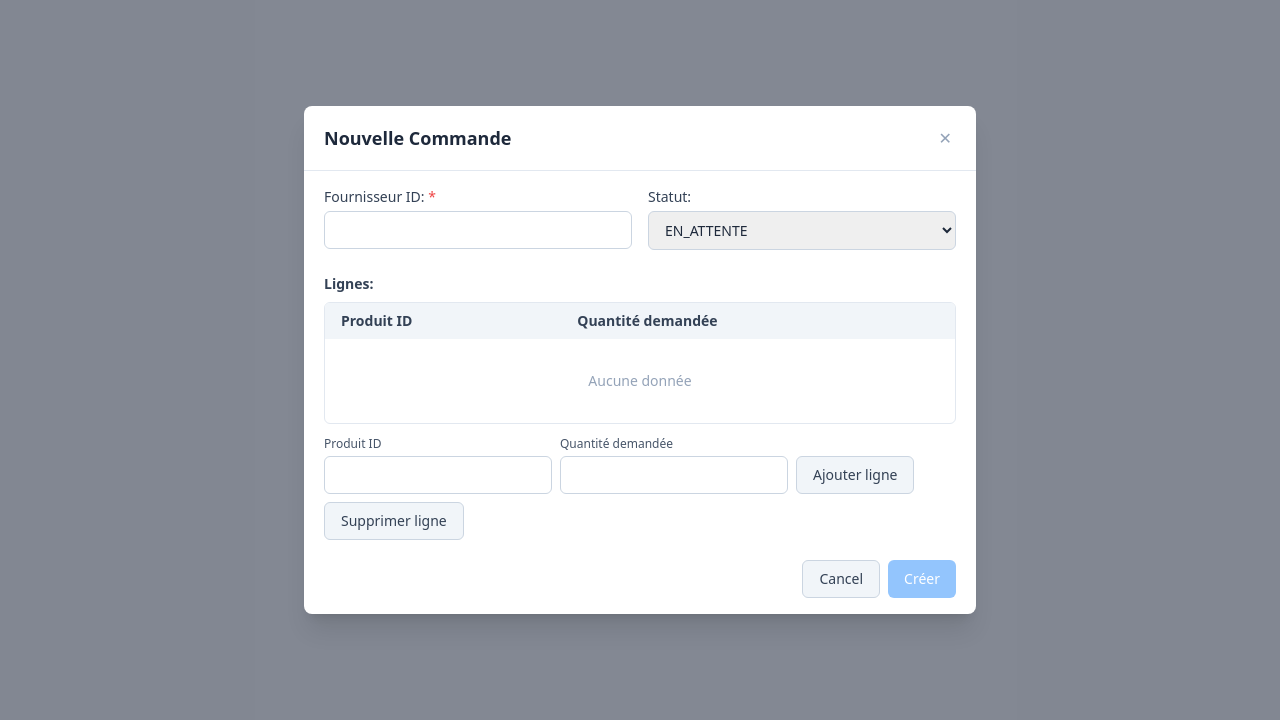
Test: CommandeFormModal › affiche l'erreur exacte si on ajoute une ligne sans Produit ID/Quantite valides
What coordinates should you click on to do the following:
click the button "Ajouter ligne"
I would click on:
 (855, 475)
Its box is [796,456,914,494].
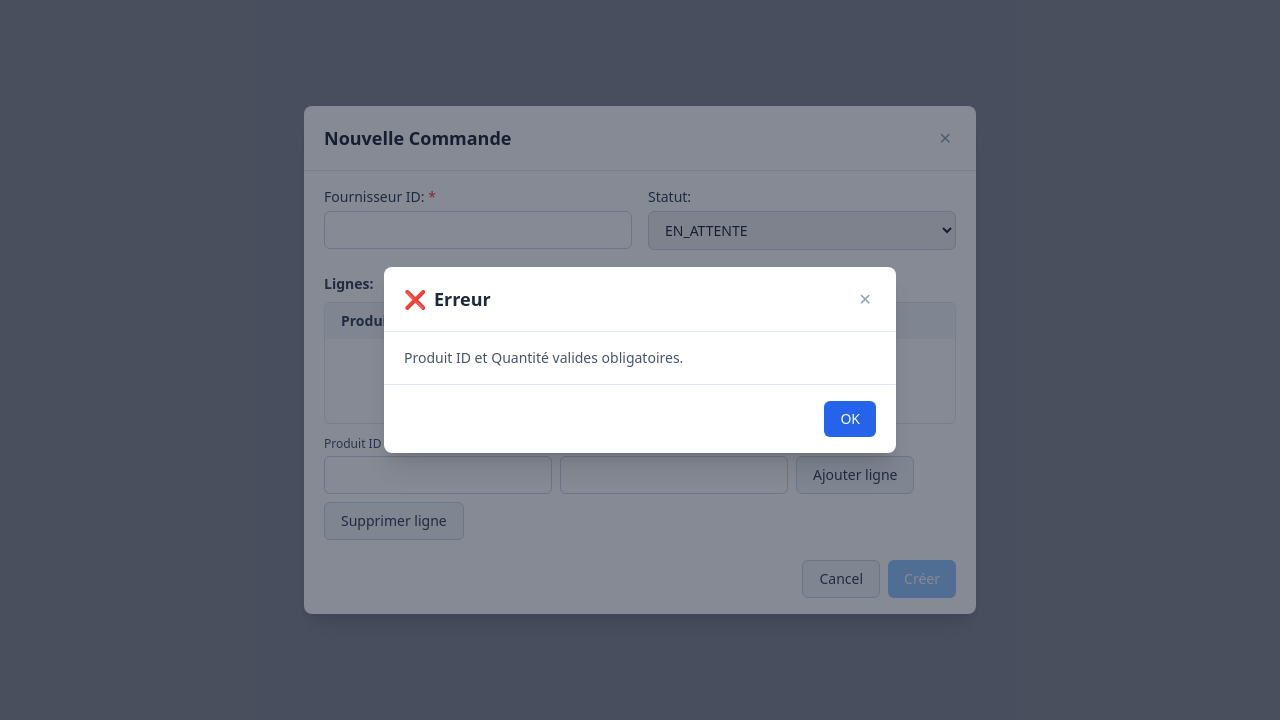
Expected: the text "Produit ID et Quantité valides obligatoires." is shown, [404,348,683,367]
